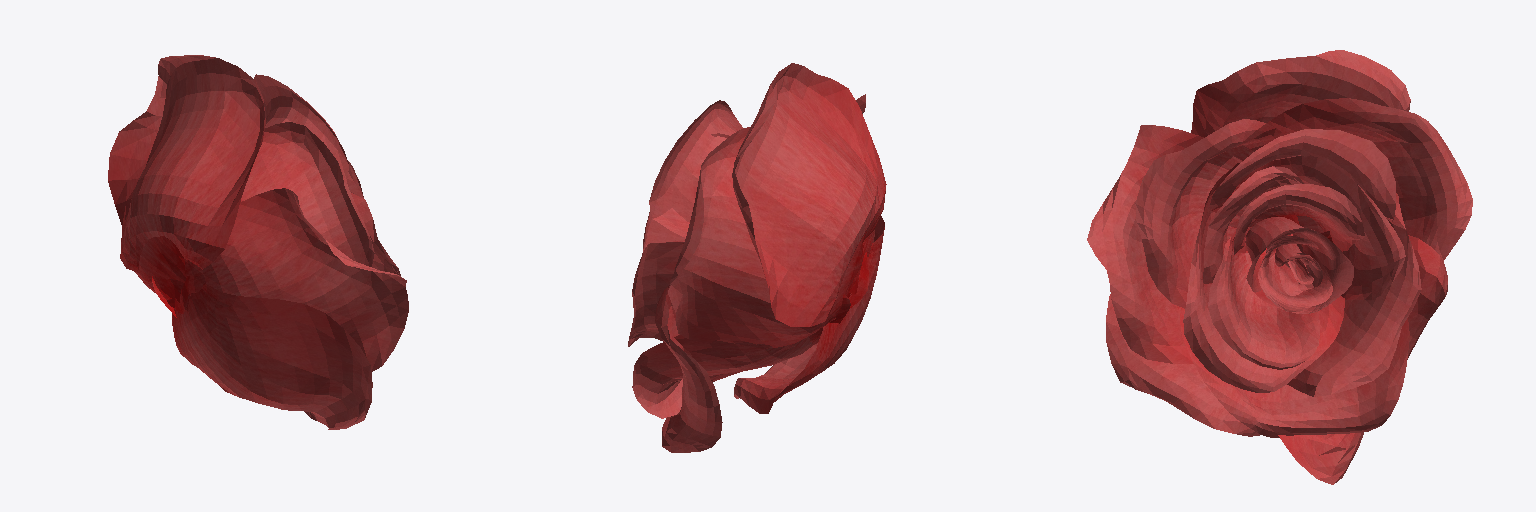
3 views of the same model, side by side, from view 1: azimuth 30°, elevation 25°; view 2: azimuth 150°, elevation 25°; view 3: azimuth 270°, elevation 25° (orthographic).
Visible parts, largest first — view 1: RosePetals; view 2: RosePetals; view 3: RosePetals.
Part boxes in pixels (x1,y1,x2,y2): RosePetals: (108, 55, 408, 429); RosePetals: (628, 63, 886, 452); RosePetals: (1087, 50, 1472, 484).
Size of the model in its own units: 0.0528 by 0.0934 by 0.0857.
Materials: 1 (1 with a texture image).